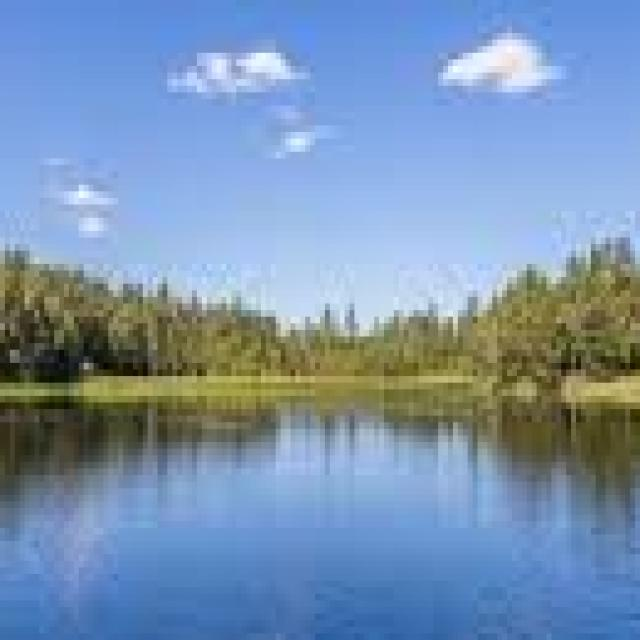-: (0, 442, 640, 640), (0, 501, 640, 640), (295, 415, 639, 640), (0, 501, 438, 640)
